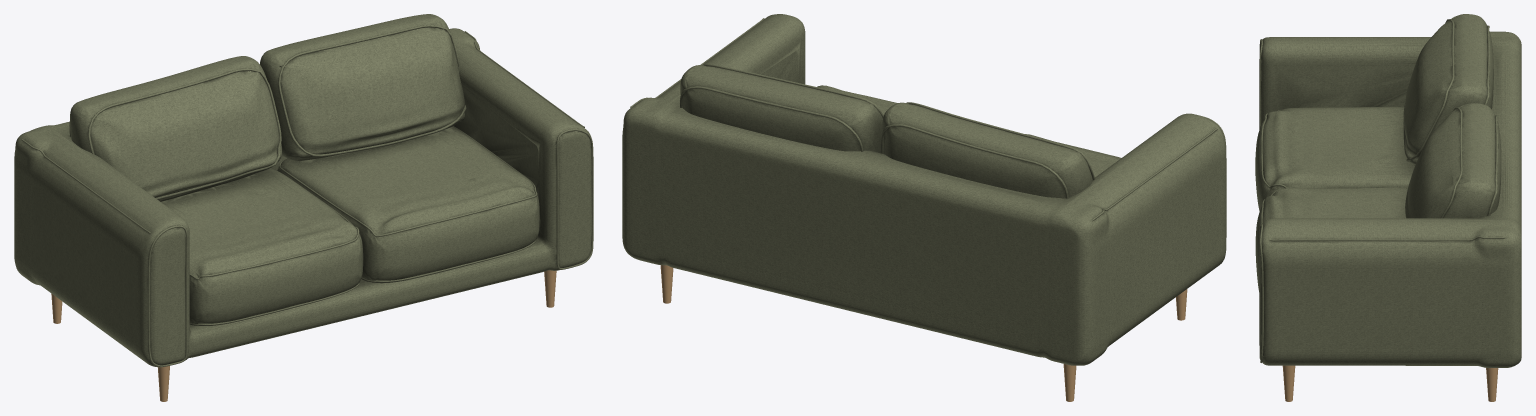
File: lino-oliva.gltf
The picture shows the model from 3 angles, left to right: view 1: azimuth 30°, elevation 25°; view 2: azimuth 150°, elevation 25°; view 3: azimuth 270°, elevation 25°; orthographic projection. The views are drawn at different scales.
Visible parts, largest first — view 1: tela_ar, madera_ar; view 2: tela_ar, madera_ar; view 3: tela_ar, madera_ar.
Part boxes in pixels (box(x1,y1,x2,y2)): tela_ar: box(14, 14, 593, 367); madera_ar: box(51, 270, 556, 401); tela_ar: box(622, 14, 1226, 365); madera_ar: box(660, 265, 1187, 401); tela_ar: box(1255, 14, 1521, 367); madera_ar: box(1282, 365, 1498, 401).
Size of the model in its own units: 1.7 by 0.8275 by 0.9121.
2 materials, 2 textured.
